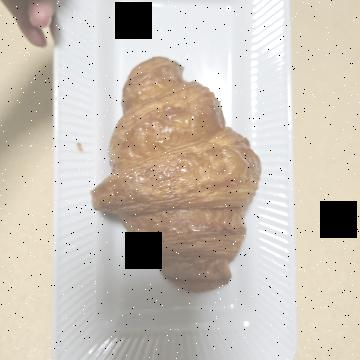croissant: (54, 99, 304, 284)
